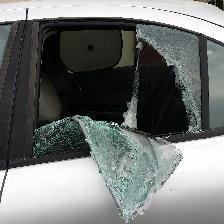glass_shatter: (35, 14, 203, 162)
